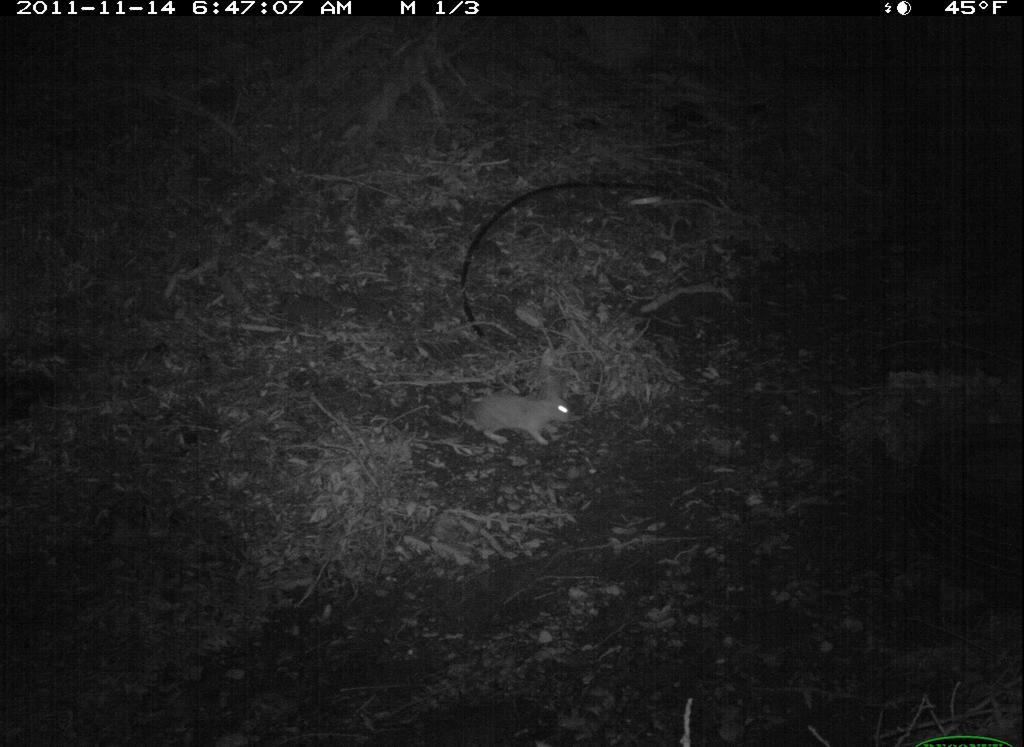rabbit: (463, 369, 577, 457)
